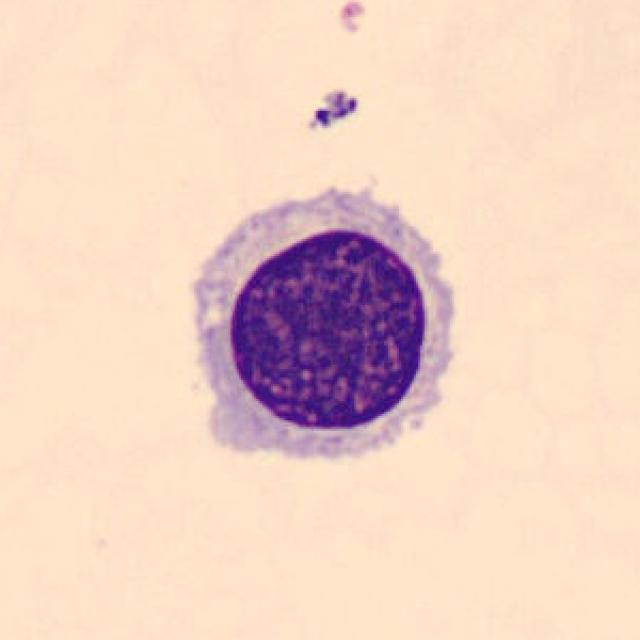White Blood Cell: (196, 190, 452, 456)
